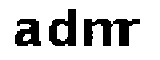a: (10, 16, 45, 51)
d: (44, 7, 78, 51)
m: (79, 15, 124, 49)
r: (124, 13, 145, 47)
